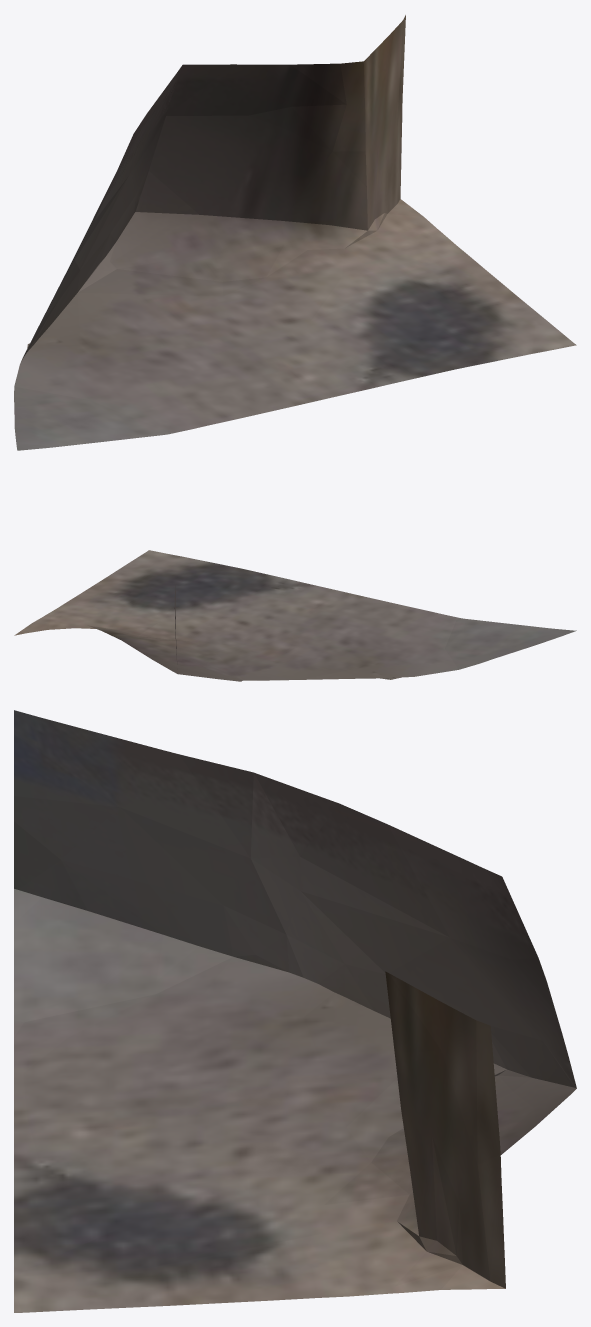
The picture shows the model from 3 angles, top to bottom: view 1: azimuth 30°, elevation 25°; view 2: azimuth 150°, elevation 25°; view 3: azimuth 270°, elevation 25°; orthographic projection. The views are drawn at different scales.
Size of the model in its own units: 1.42 by 0.4981 by 0.8851.
1 material, 1 textured.
